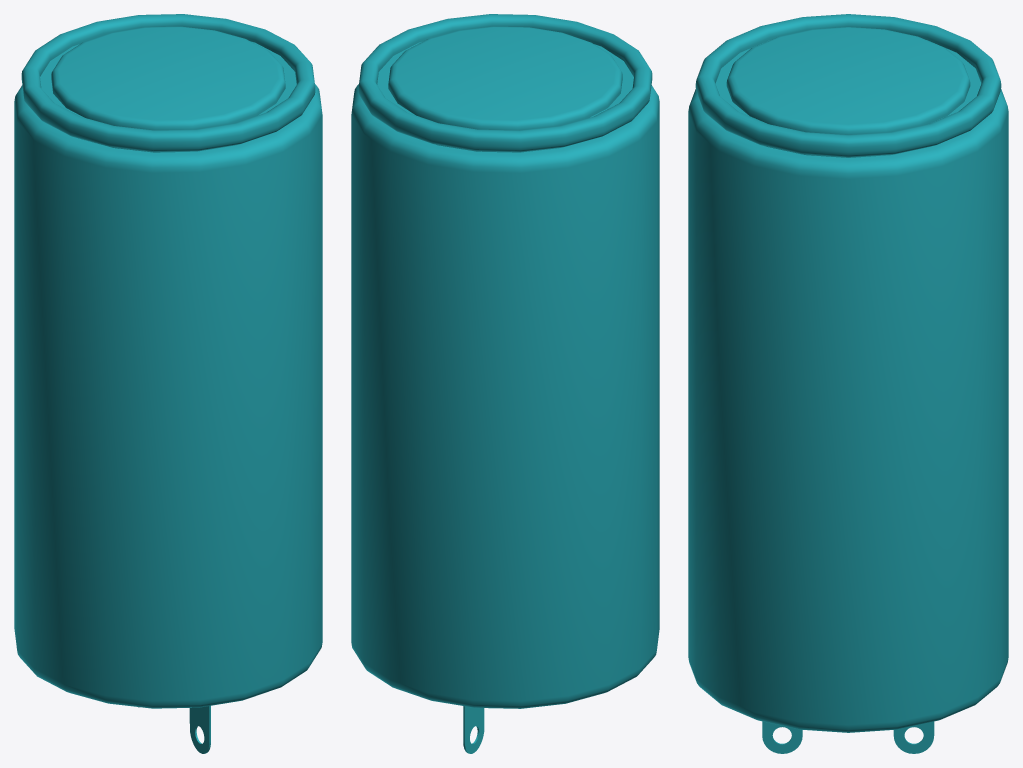
The model's file is elements027.fbx.
3 views of the same model, side by side, from view 1: azimuth 30°, elevation 25°; view 2: azimuth 150°, elevation 25°; view 3: azimuth 270°, elevation 25° (orthographic). The views are drawn at different scales.
Visible parts, largest first — view 1: element027_LOD0; view 2: element027_LOD0; view 3: element027_LOD0.
Part boxes in pixels (x1,y1,x2,y2): element027_LOD0: (14,14,322,753); element027_LOD0: (351,14,659,753); element027_LOD0: (688,14,1008,753).
Size of what is drawn, in the model's own units: 1.2 by 2.81 by 1.2.
